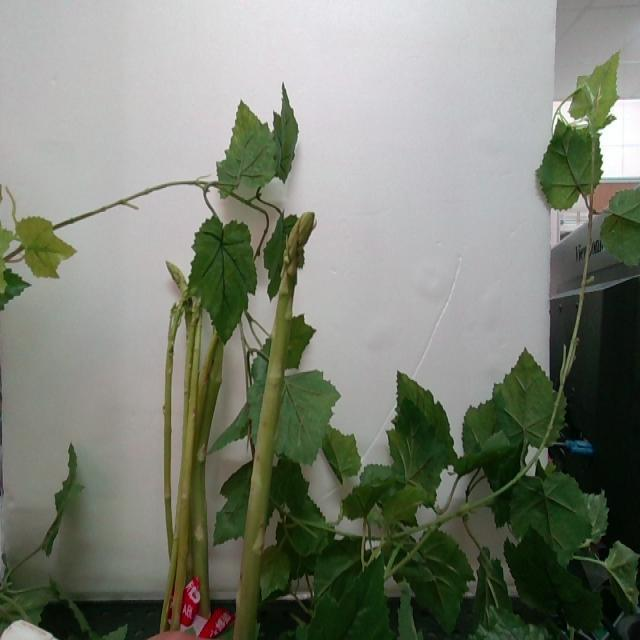aspargus: (233, 212, 317, 640)
